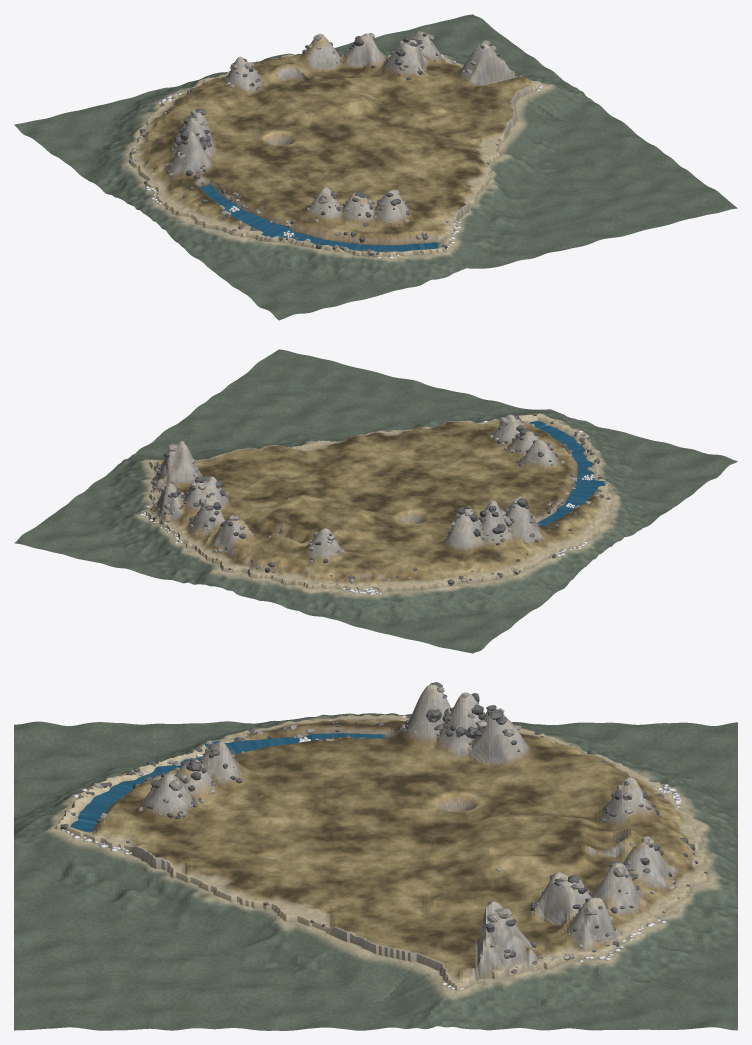
File: Terrain_P2.fbx
3 views of the same model, one above another, from view 1: azimuth 30°, elevation 25°; view 2: azimuth 150°, elevation 25°; view 3: azimuth 270°, elevation 25° (orthographic). The views are drawn at different scales.
Visible parts, largest first — view 1: Ground, River; view 2: Ground, River; view 3: Ground, River, Surf.
Boxes of the visible parts, x1,y1,x2,y2 form: Ground: (14,14,737,320); River: (199,185,438,251); Ground: (14,349,737,653); River: (530,421,605,525); Ground: (14,684,737,1030); River: (70,733,385,832); Surf: (60,715,681,989).
Size of what is drawn, in the model's own units: 64000 by 8397 by 64000.
